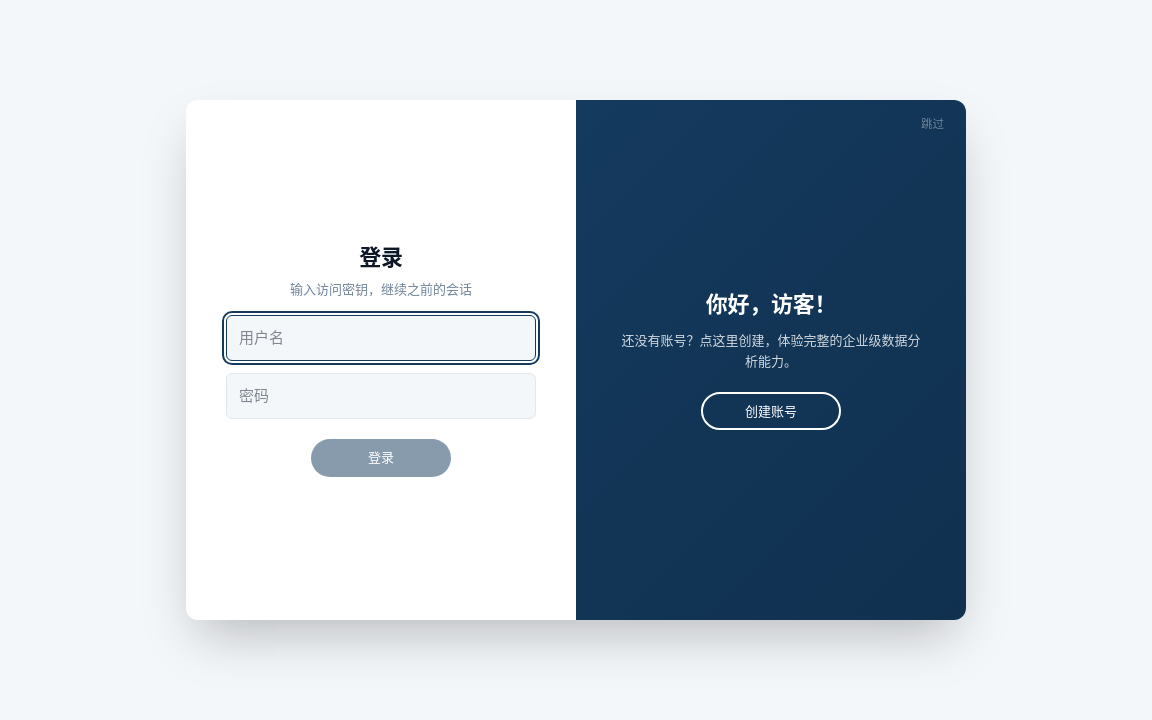
Test: AuthCentre › 切换到注册模式：显示创建账号表单与登录引导
Click the button "创建账号" at (771, 411), box [701,392,841,430]
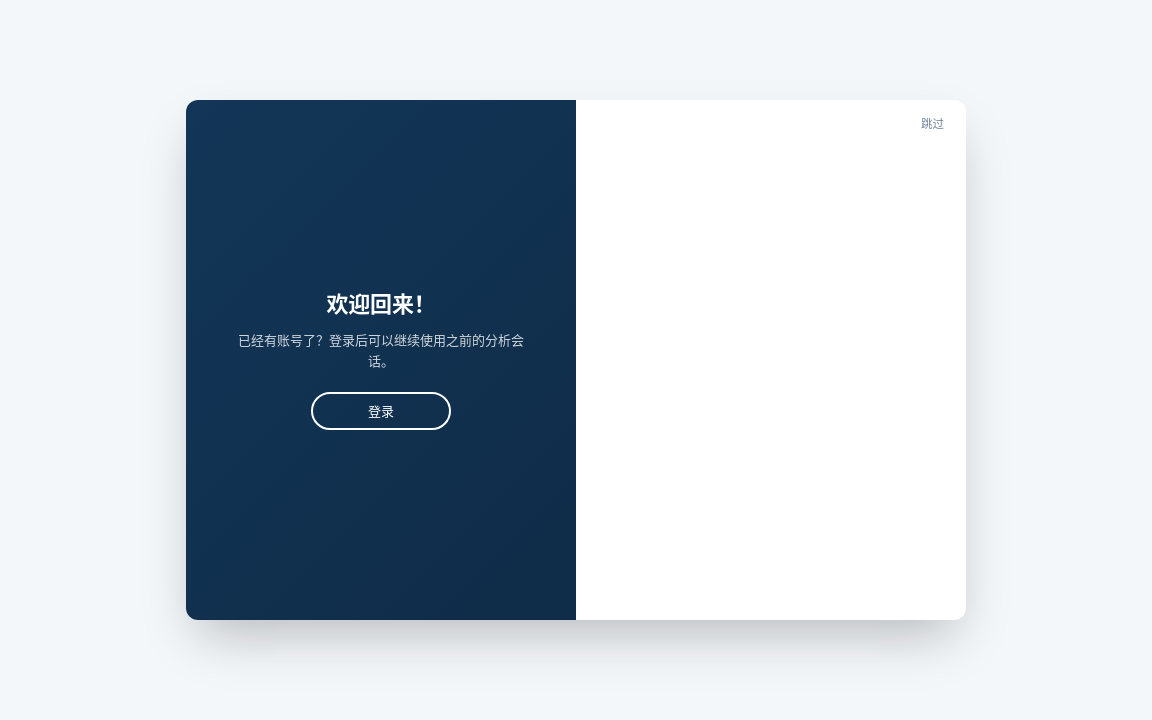
Now the heading "欢迎回来！" is shown, box [326,290,435,318]
Now the button "登录" is shown, box [311,392,451,430]
